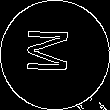M_E: (30, 32, 80, 78)
